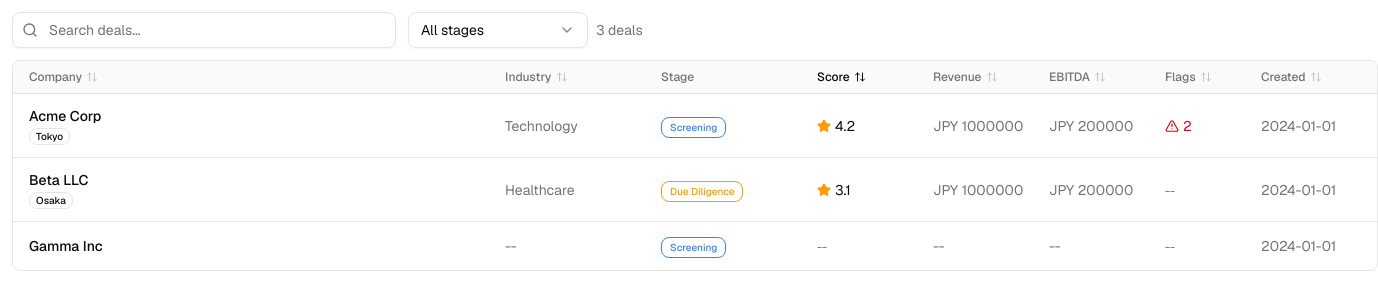
it: DealListView › filters deals by search query across fields
Type "Healthcare" into the field with placeholder "Search deals..." at x=204, y=30, box [12, 12, 396, 48]
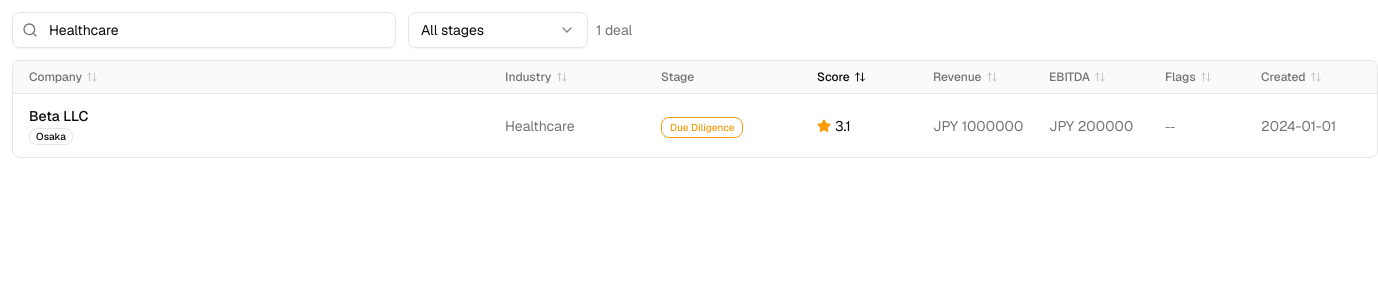
expect the text "Acme Corp" is gone: met
expect the text "1 deal" is shown: met, box [596, 20, 632, 40]
